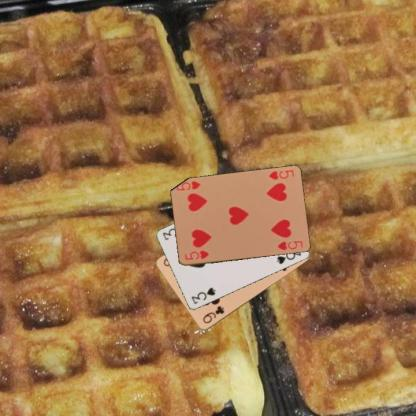3s: (189, 285, 217, 305)
5h: (266, 167, 295, 181), (182, 248, 210, 261)
9c: (200, 303, 225, 325)
